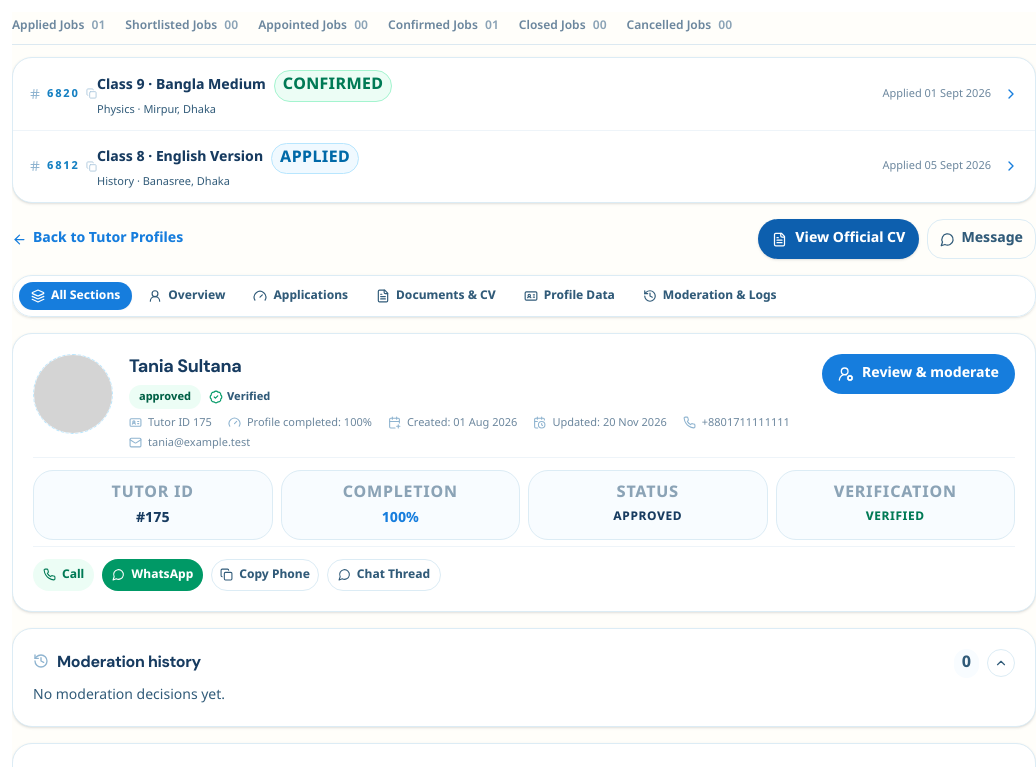
Test: Admin Tutor profile detail › says so when a stage has no applications
The width and height of the screenshot is (1036, 767).
Click the button "Cancelled Jobs 00" at point(679, 28), box [627, 12, 732, 44]
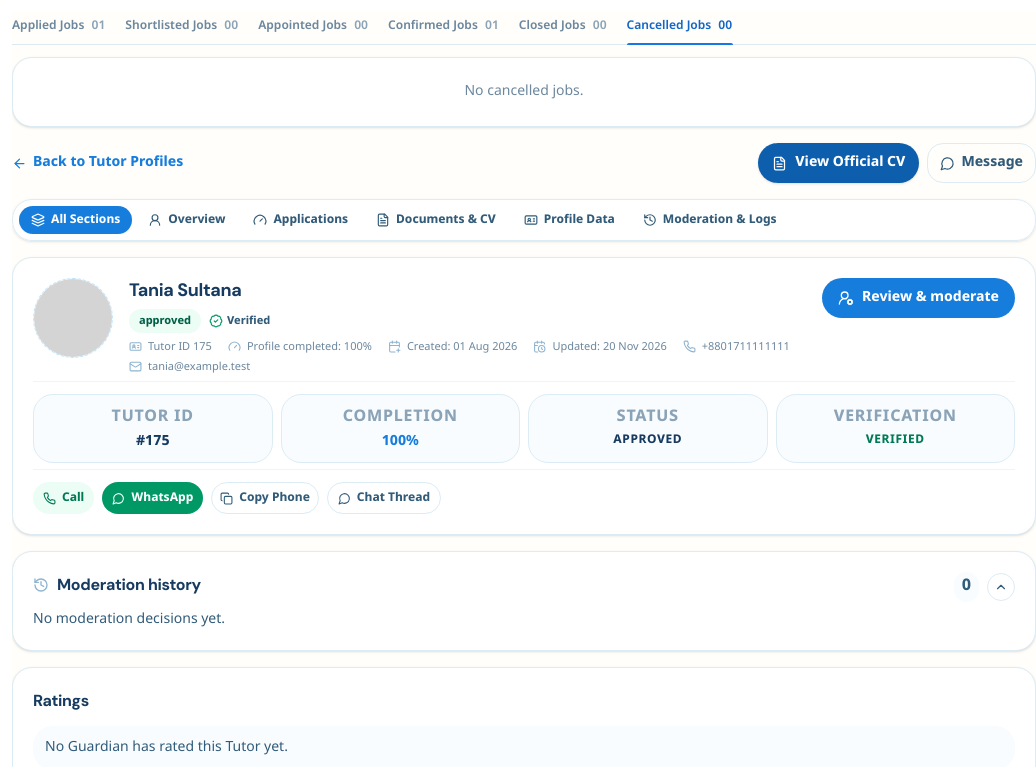
Now the text "No cancelled jobs." is shown, box [464, 82, 584, 101]
